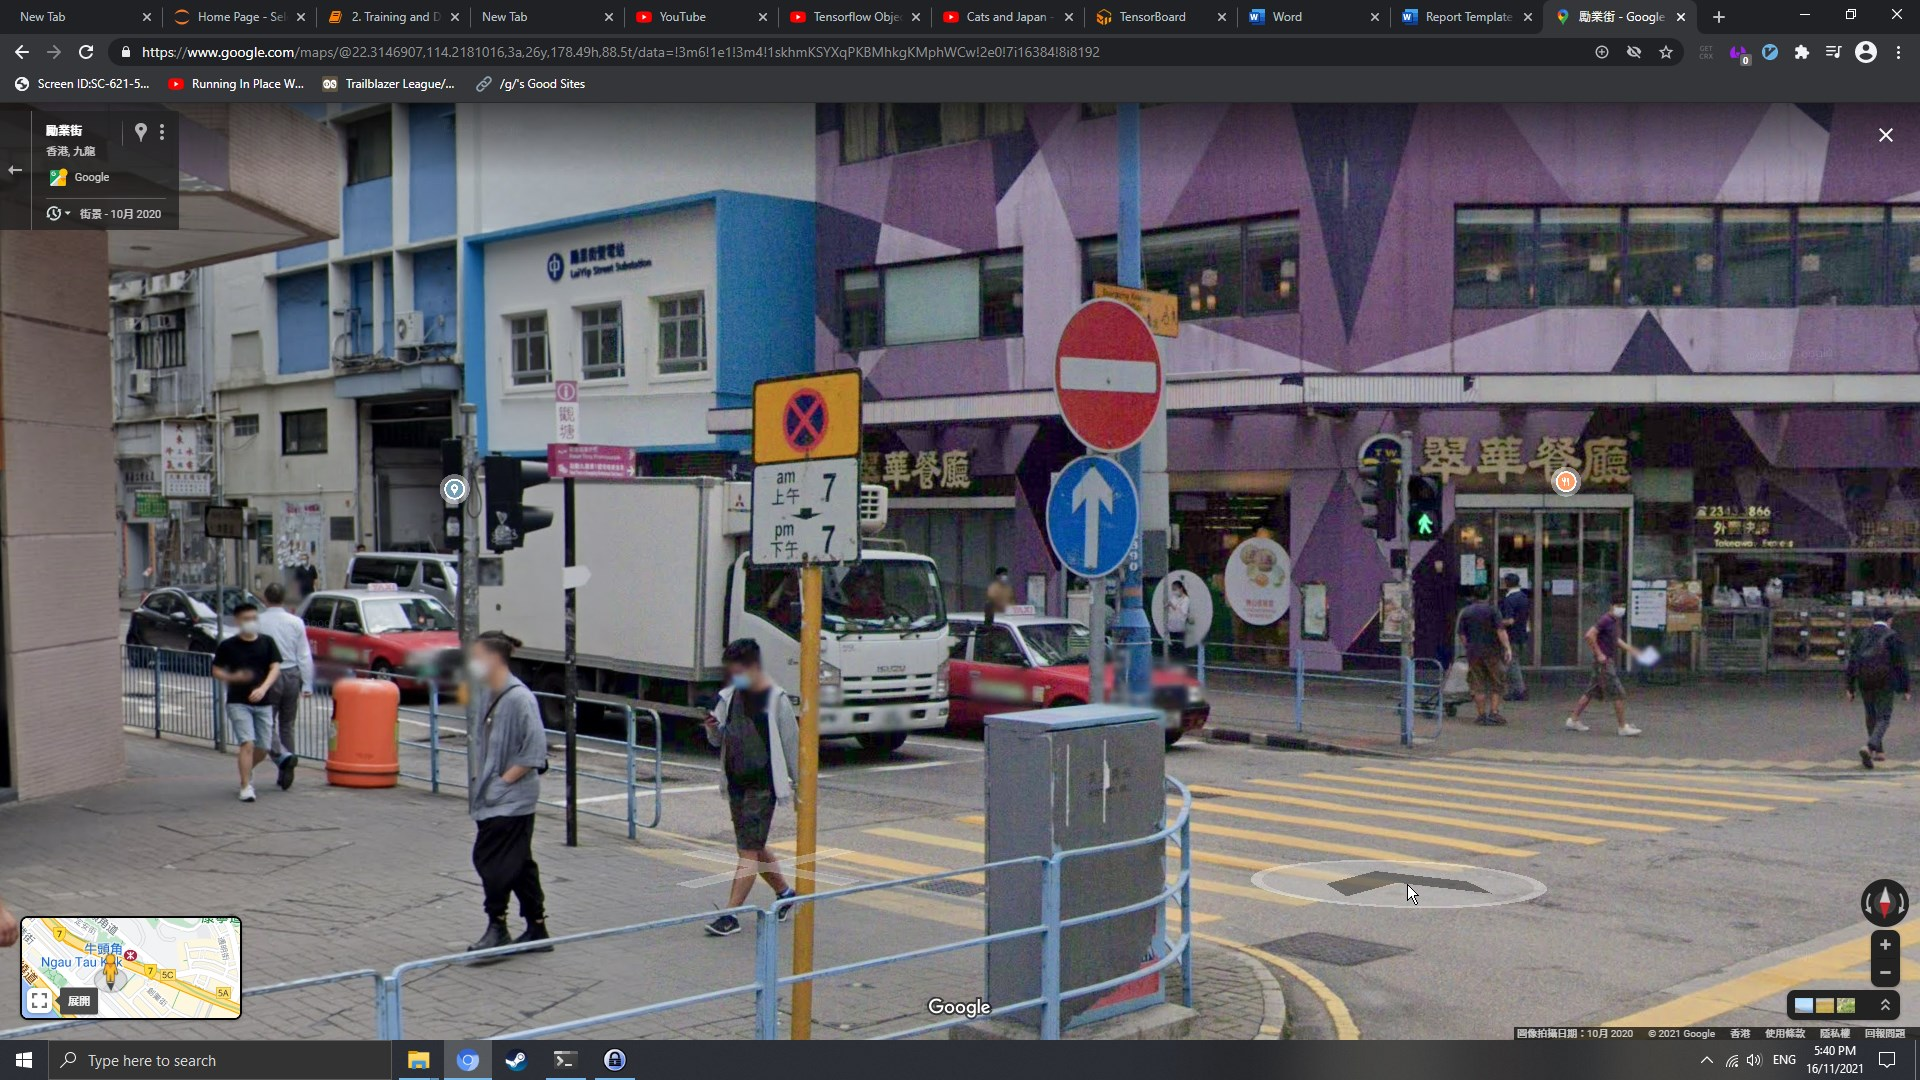NoEntry: (1052, 297, 1163, 454)
NoStop: (781, 389, 829, 452)
